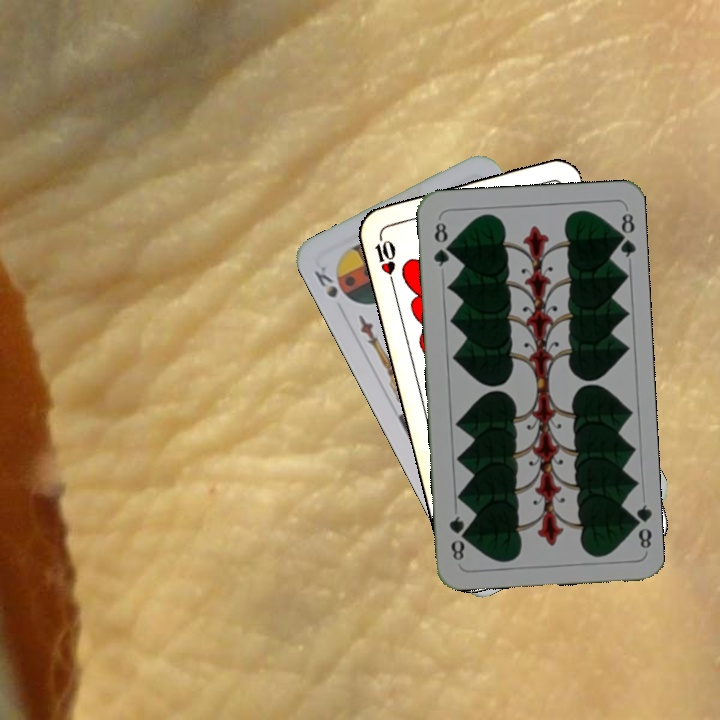G8: (626, 501, 654, 551), (429, 218, 453, 269)
H10: (370, 229, 399, 288)
SK: (310, 262, 341, 301)
